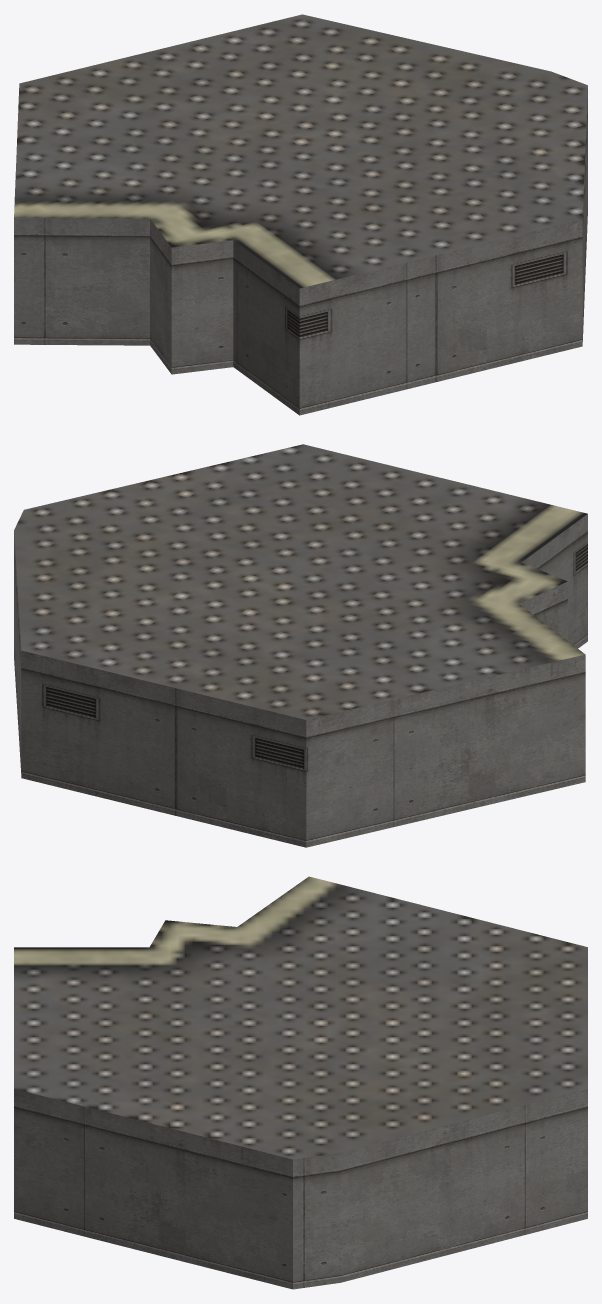
Rendered from building_medium_a_47.glb.
3 views of the same model, one above another, from view 1: azimuth 30°, elevation 25°; view 2: azimuth 150°, elevation 25°; view 3: azimuth 270°, elevation 25° (orthographic). The views are drawn at different scales.
Visible parts, largest first — view 1: buildings/saxarba/building_medium/building_medium_a_47; view 2: buildings/saxarba/building_medium/building_medium_a_47; view 3: buildings/saxarba/building_medium/building_medium_a_47.
Part boxes in pixels (bbox=[...]): buildings/saxarba/building_medium/building_medium_a_47: bbox=[14, 14, 587, 415]; buildings/saxarba/building_medium/building_medium_a_47: bbox=[14, 444, 587, 847]; buildings/saxarba/building_medium/building_medium_a_47: bbox=[14, 876, 587, 1289].
Bounding box in the file's own units: 84 × 18 × 72.
